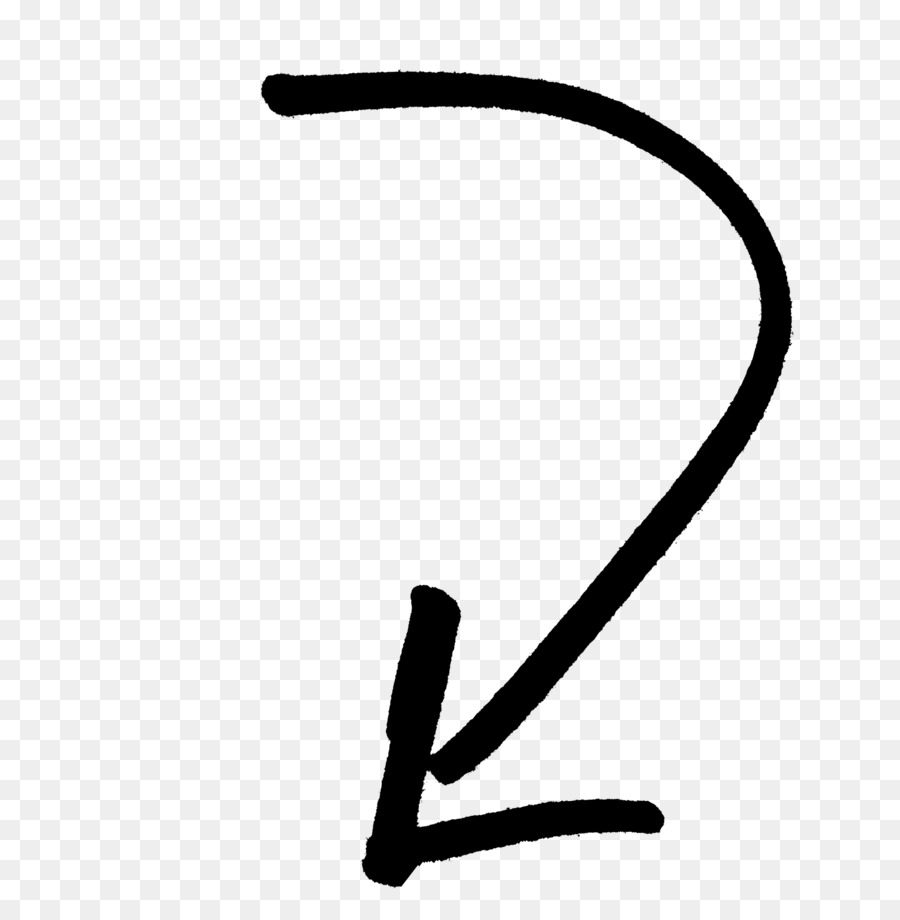arrow: (226, 51, 794, 888)
